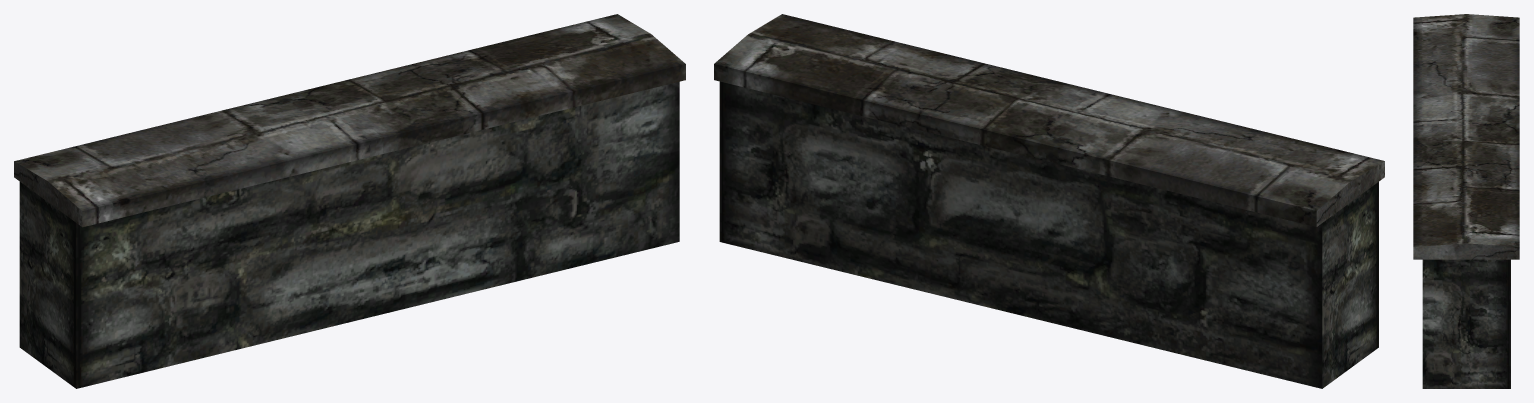
Rendered from fencewall01.DAE.
The picture shows the model from 3 angles, left to right: view 1: azimuth 30°, elevation 25°; view 2: azimuth 150°, elevation 25°; view 3: azimuth 270°, elevation 25°; orthographic projection. The views are drawn at different scales.
Parts seen in each view (by area): view 1: Object064; view 2: Object064; view 3: Object064.
Boxes of the visible parts, bbox=[...] form: Object064: bbox=[14, 14, 685, 388]; Object064: bbox=[714, 14, 1384, 388]; Object064: bbox=[1413, 14, 1519, 388].
Bounding box in the file's own units: 4 × 1.18 × 0.7847.
